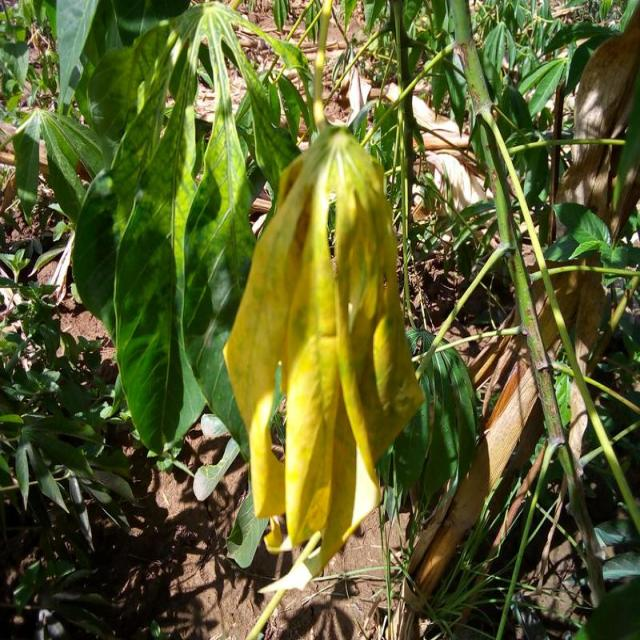cassava leaf: (223, 123, 427, 590)
